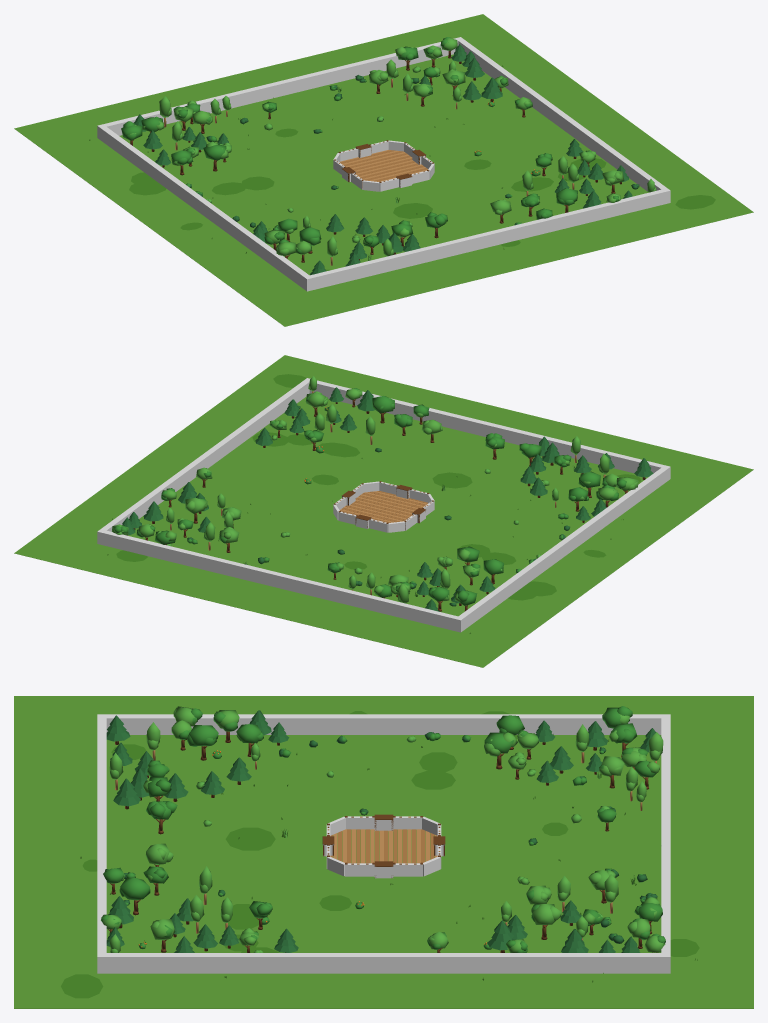
File: start_base.glb
3 renders of one model, top to bottom at view 1: azimuth 30°, elevation 25°; view 2: azimuth 150°, elevation 25°; view 3: azimuth 270°, elevation 25°, orthographic. The views are drawn at different scales.
Parts seen in each view (by area): view 1: ground, col_wall_south, col_wall_north, col_wall_west, trees_canopy_sw, ground_detail, trees_canopy_nw, trees_canopy_ne, col_wall_east, trees_canopy_se, floor, trees_trunks (+2 smaller); view 2: ground, col_wall_north, col_wall_west, trees_canopy_sw, col_wall_south, ground_detail, trees_canopy_se, trees_canopy_nw, col_wall_east, trees_canopy_ne, floor, trees_trunks (+2 smaller); view 3: ground, col_wall_east, col_wall_west, trees_canopy_sw, trees_canopy_nw, trees_canopy_ne, ground_detail, trees_canopy_se, floor, col_wall_south, col_wall_north, trees_canopy_edge (+2 smaller).
Part boxes in pixels (bbox=[...]): ground: bbox=[14, 14, 753, 326]; col_wall_south: bbox=[305, 189, 670, 291]; col_wall_north: bbox=[97, 38, 463, 139]; col_wall_west: bbox=[97, 125, 312, 290]; trees_canopy_sw: bbox=[253, 214, 420, 275]; ground_detail: bbox=[89, 61, 715, 271]; trees_canopy_nw: bbox=[121, 96, 231, 165]; trees_canopy_ne: bbox=[369, 37, 508, 102]; col_wall_east: bbox=[455, 37, 670, 204]; trees_canopy_se: bbox=[521, 139, 656, 219]; floor: bbox=[340, 150, 427, 181]; trees_trunks: bbox=[130, 51, 621, 265]; ground: bbox=[14, 355, 753, 667]; col_wall_north: bbox=[97, 530, 462, 632]; col_wall_west: bbox=[455, 467, 670, 631]; trees_canopy_sw: bbox=[519, 436, 653, 520]; col_wall_south: bbox=[305, 378, 670, 479]; ground_detail: bbox=[107, 374, 640, 633]; trees_canopy_se: bbox=[255, 376, 429, 445]; trees_canopy_nw: bbox=[348, 546, 503, 611]; col_wall_east: bbox=[97, 378, 310, 545]; trees_canopy_ne: bbox=[112, 482, 241, 544]; floor: bbox=[340, 491, 427, 522]; trees_trunks: bbox=[127, 391, 645, 611]; ground: bbox=[14, 696, 753, 1008]; col_wall_east: bbox=[97, 953, 670, 973]; col_wall_west: bbox=[97, 714, 670, 734]; trees_canopy_sw: bbox=[106, 706, 289, 806]; trees_canopy_nw: bbox=[484, 706, 663, 802]; trees_canopy_ne: bbox=[487, 870, 665, 952]; ground_detail: bbox=[61, 711, 699, 998]; trees_canopy_se: bbox=[101, 866, 298, 952]; floor: bbox=[330, 829, 437, 863]; col_wall_south: bbox=[97, 714, 106, 973]; col_wall_north: bbox=[661, 714, 670, 973]; trees_canopy_edge: bbox=[124, 732, 657, 949].
Bounding box in the file's own units: 80 × 5.06 × 80.
